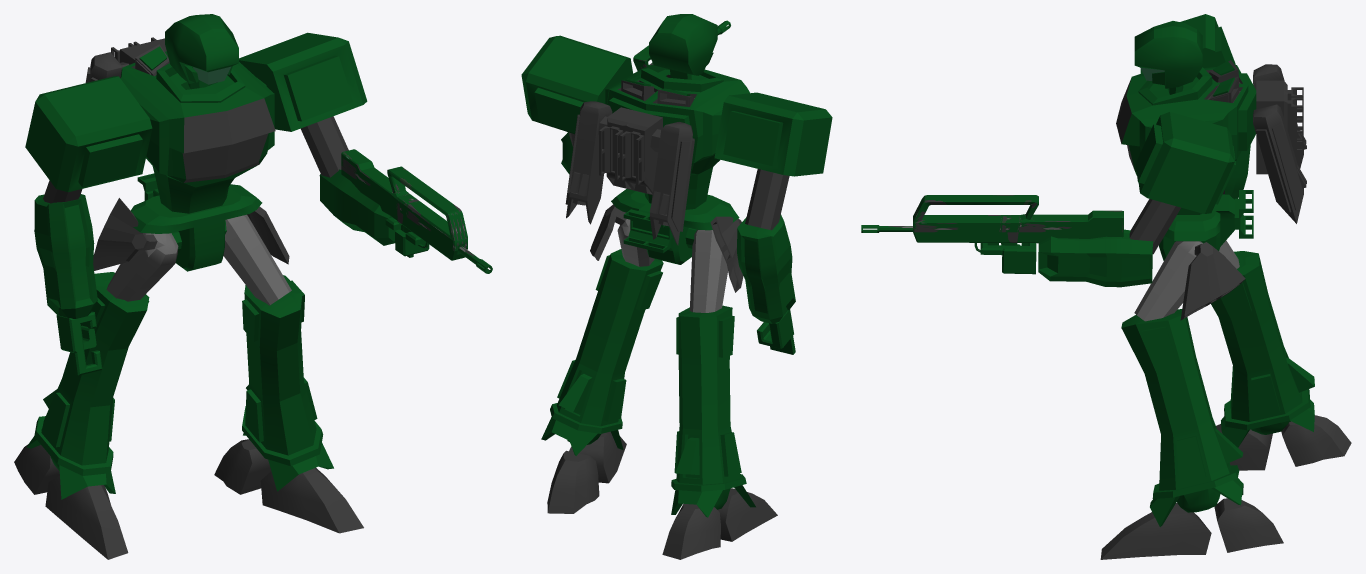
File: viranrifle.fbx
3 views of the same model, side by side, from view 1: azimuth 30°, elevation 25°; view 2: azimuth 150°, elevation 25°; view 3: azimuth 270°, elevation 25° (orthographic). The views are drawn at different scales.
Parts seen in each view (by area): view 1: ninoude6; view 2: ninoude6; view 3: ninoude6.
Boxes of the visible parts, bbox=[...] form: ninoude6: bbox=[14, 14, 492, 559]; ninoude6: bbox=[521, 14, 832, 559]; ninoude6: bbox=[861, 14, 1351, 559].
Bounding box in the file's own units: 0.9056 × 1.49 × 1.37.
Materials: 1 (1 with a texture image).
